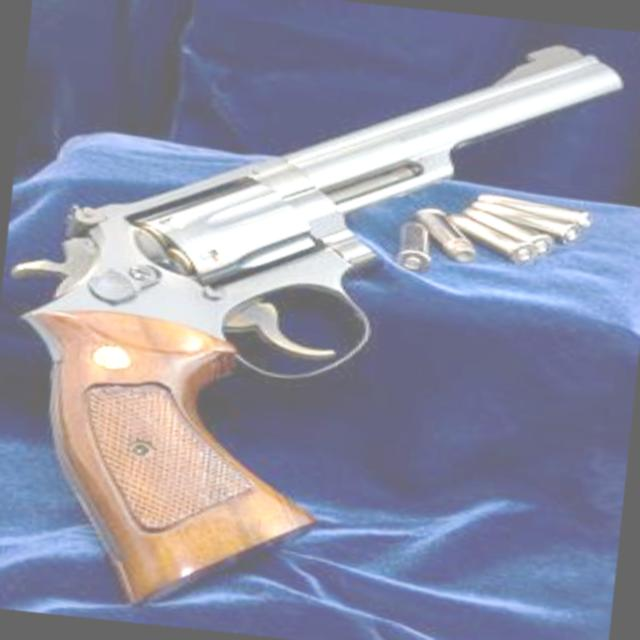semi automatic: (0, 0, 634, 640)
